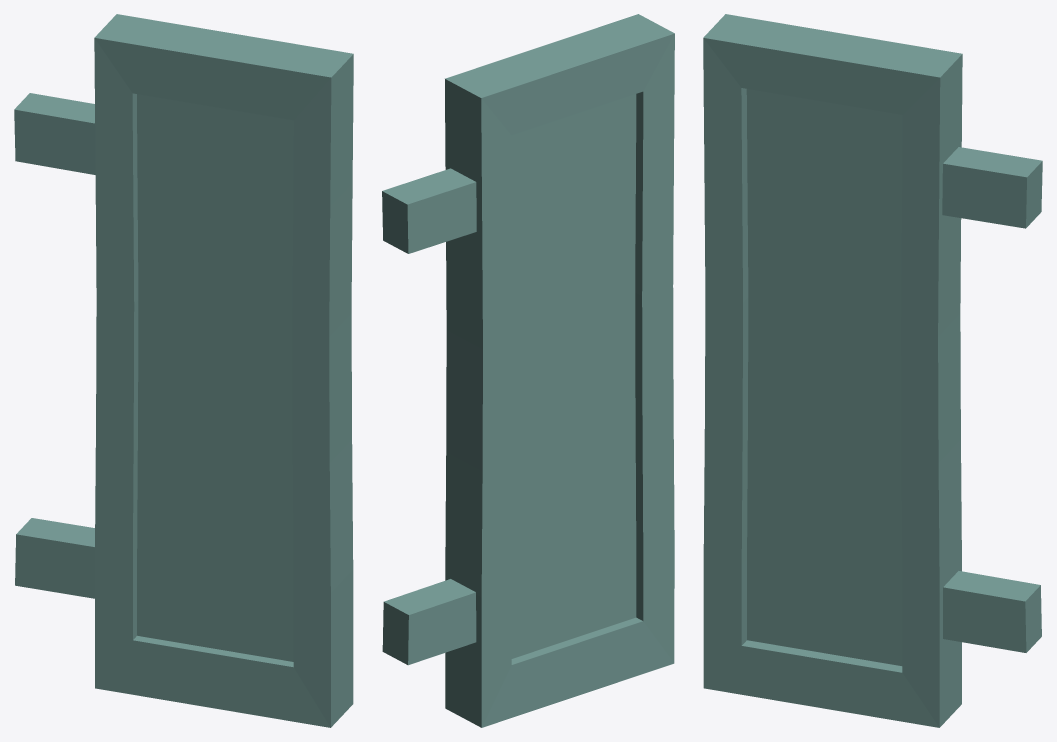
The model's file is side sign.fbx.
3 renders of one model, left to right at view 1: azimuth 90°, elevation 25°; view 2: azimuth 150°, elevation 25°; view 3: azimuth 270°, elevation 25°, orthographic. The views are drawn at different scales.
Parts seen in each view (by area): view 1: side sign; view 2: side sign; view 3: side sign.
Part boxes in pixels (x1,y1,x2,y2): side sign: (14,14,353,727); side sign: (382,14,674,727); side sign: (703,14,1042,727).
Bounding box in the file's own units: 230 × 943 × 446.
